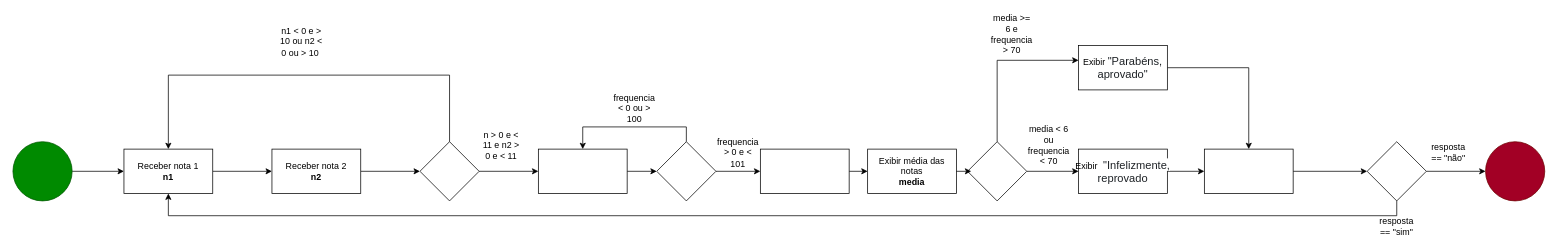
Some shapes in this 1558 by 250 pixel diagram are drawn without their labels. Here are the shapes that lost their labels. From the top down, the centre of each, then its label:
At [582,171]: "Receber frequencia de aula frequencia".
At [804,171]: "Cálcular a média media = (n1 + n2) / 2".
At [1248,171]: "Perguntar se será cadastrado um novo aluno resposta".
